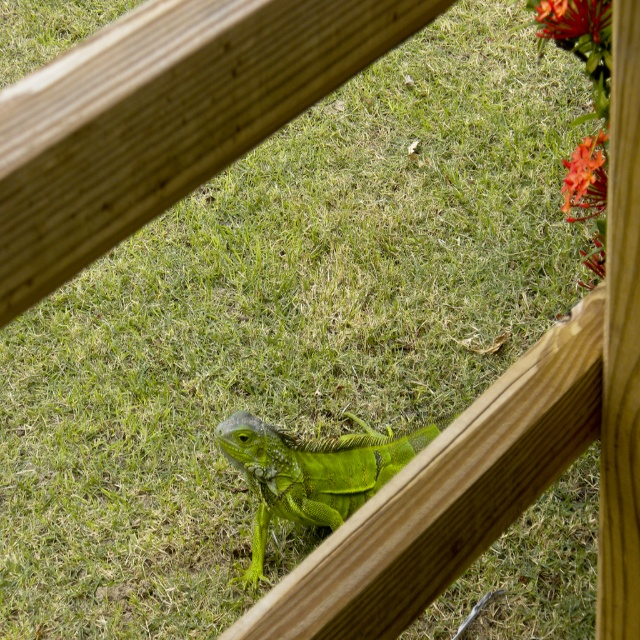Lizard: (219, 383, 460, 569)
